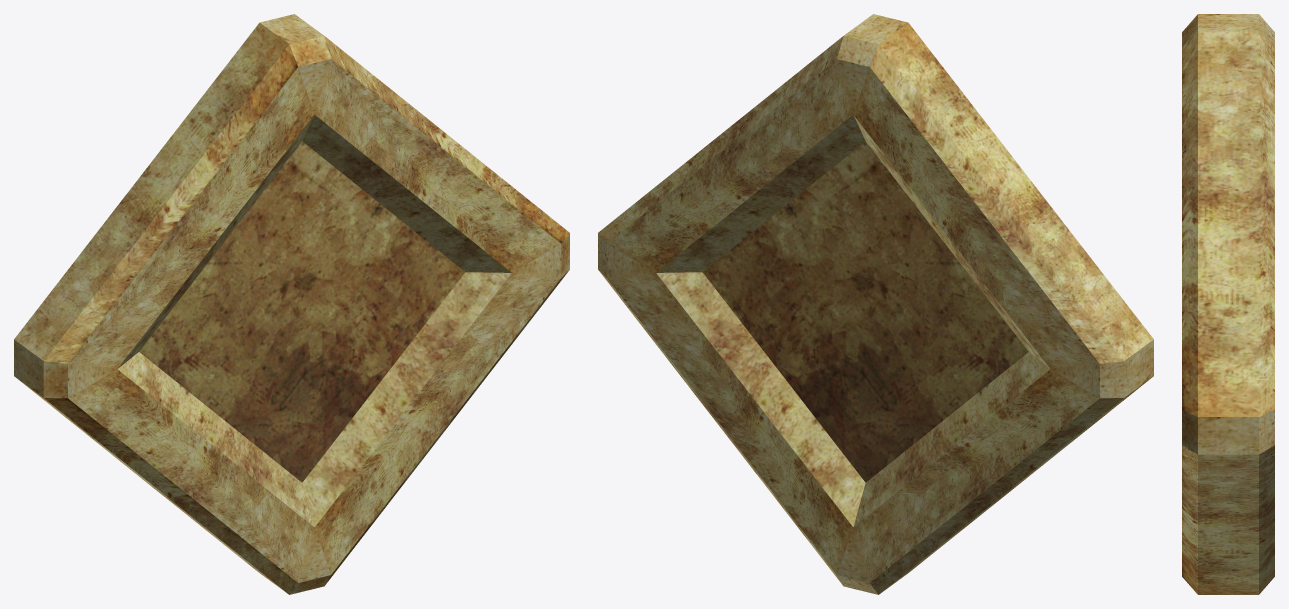
The model's file is pG_coin_01.fbx.
3 views of the same model, side by side, from view 1: azimuth 30°, elevation 25°; view 2: azimuth 150°, elevation 25°; view 3: azimuth 270°, elevation 25° (orthographic). The views are drawn at different scales.
Parts seen in each view (by area): view 1: pG_coin_01; view 2: pG_coin_01; view 3: pG_coin_01.
Boxes of the visible parts, x1,y1,x2,y2 form: pG_coin_01: [14, 14, 569, 594]; pG_coin_01: [598, 14, 1153, 594]; pG_coin_01: [1182, 14, 1274, 594].
Size of the model in its own units: 86.76 by 86.76 by 12.94.
Materials: 1 (1 with a texture image).
